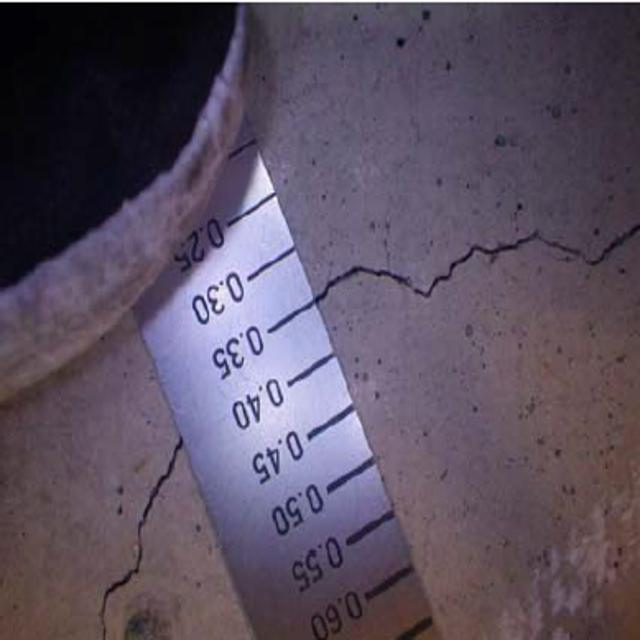crack: (301, 202, 640, 318), (86, 403, 190, 640)
